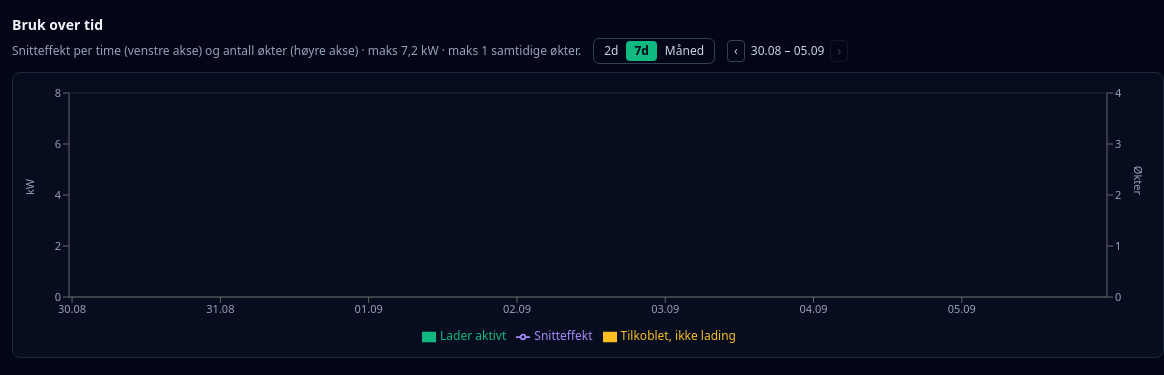
Test case: UsageChart › resets paging to live when a window-size button is clicked
Check: the text "Bruk over tid" is shown, box [12,15,103,34]
Step 1. Click the button named "Forrige periode" → coordinates (736, 51), box [727,40,745,62]
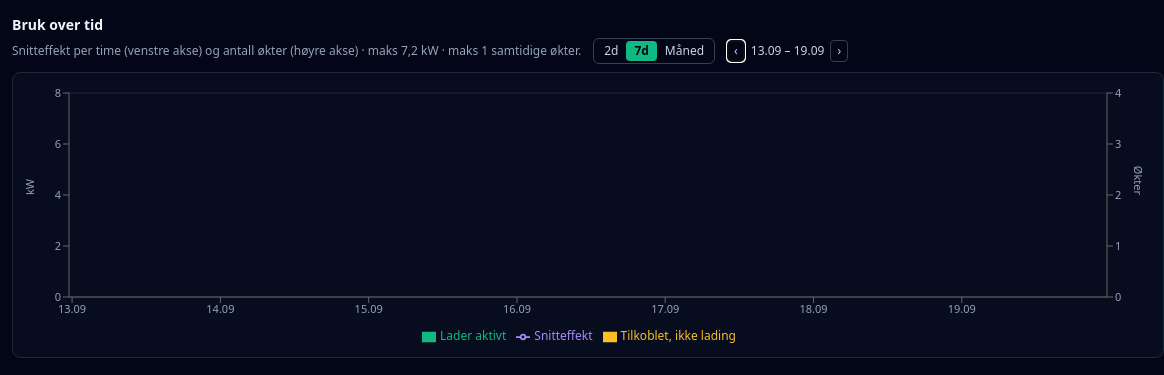
Check: the button named "Neste periode" is enabled, box [830,40,848,62]
Step 2. Click the button "2d" → coordinates (611, 51), box [596,41,626,61]
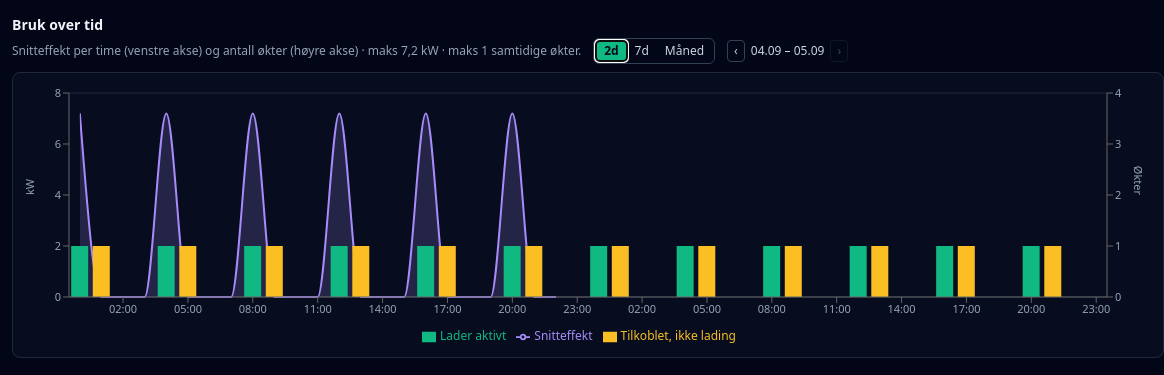
Check: the button named "Neste periode" is disabled, box [830,40,848,62]
